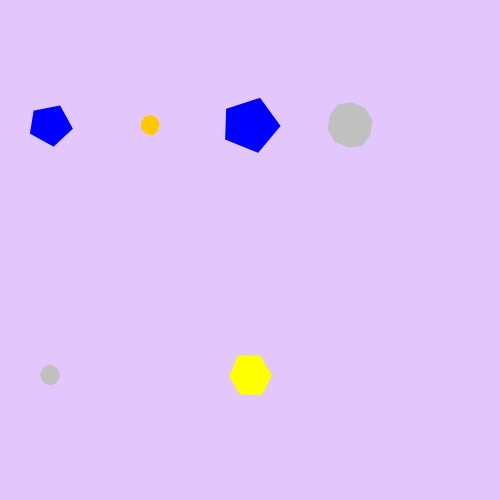decagon: (323, 100, 378, 151), (35, 361, 65, 389)
hexagon: (224, 353, 277, 398)
nonagon: (136, 111, 165, 139)
pentagon: (220, 95, 281, 156), (26, 101, 75, 150)
